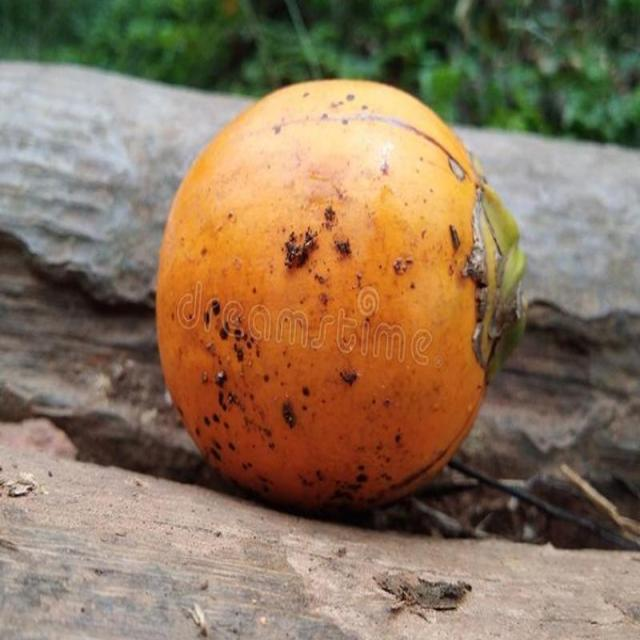good: (154, 79, 526, 519)
